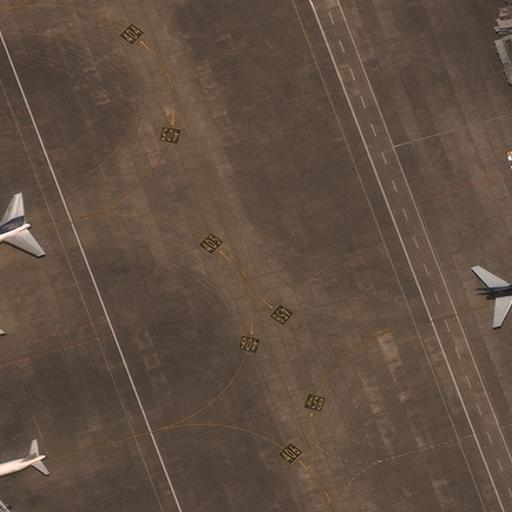Large Civil Transport: (0, 205, 31, 319)
Medium Civil Transport: (0, 435, 47, 511)
